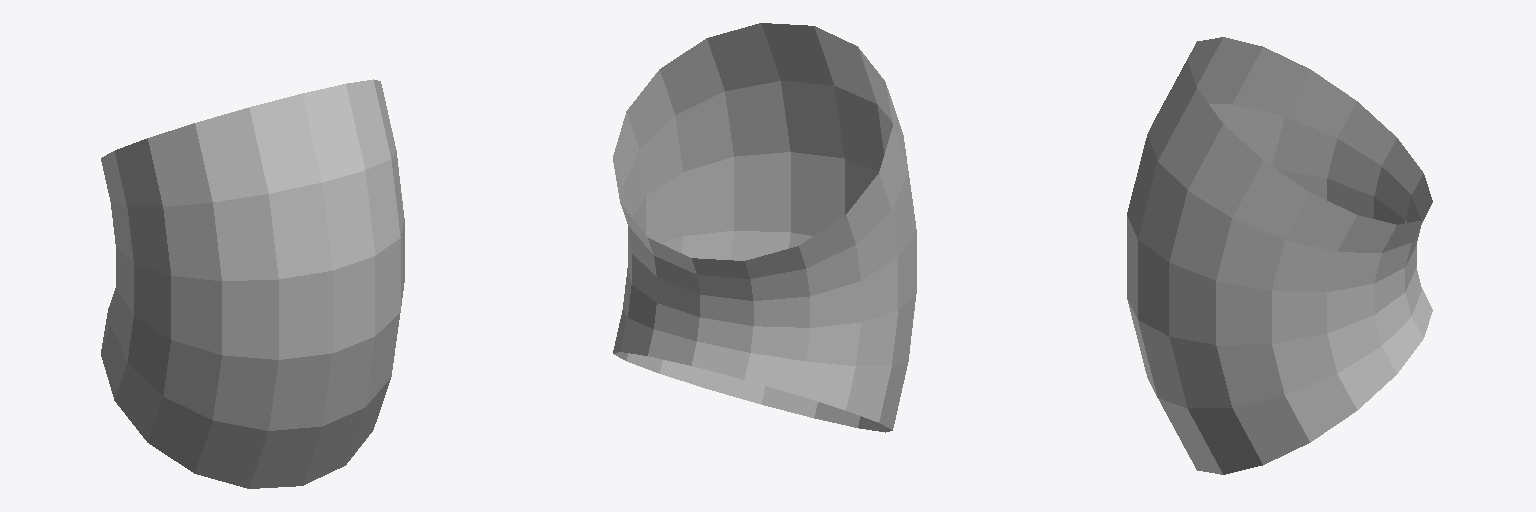
The model's file is tamy.obj.
The picture shows the model from 3 angles: view 1: azimuth 30°, elevation 25°; view 2: azimuth 150°, elevation 25°; view 3: azimuth 270°, elevation 25°; orthographic projection.
Bounding box in the file's own units: 2 × 2.97 × 2.1.